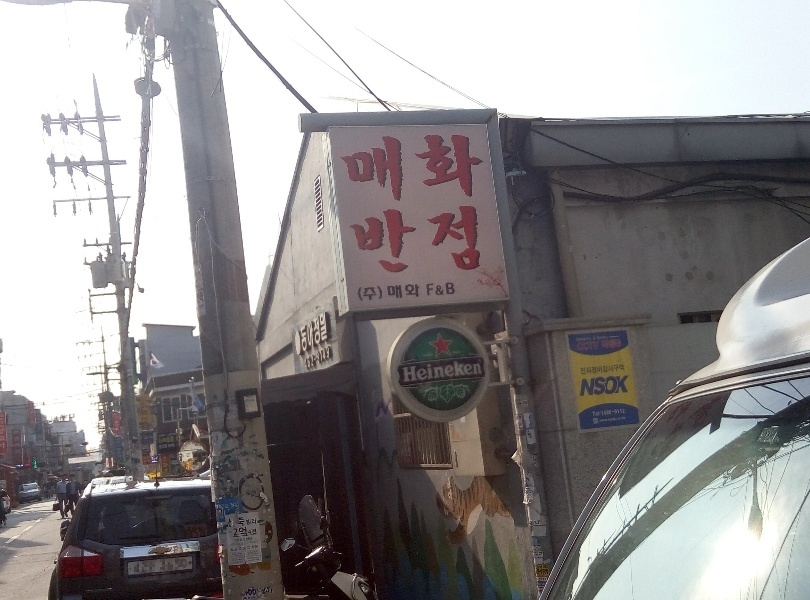text: (465, 203, 481, 276), (353, 203, 368, 276), (369, 203, 384, 276), (385, 203, 400, 276), (401, 203, 416, 276), (417, 203, 432, 276), (433, 203, 448, 276), (449, 203, 464, 276), (337, 133, 352, 204), (353, 133, 368, 204), (369, 133, 384, 204), (385, 133, 400, 204), (401, 133, 416, 204), (417, 133, 432, 204), (433, 133, 448, 204), (449, 133, 464, 204), (465, 133, 480, 204), (305, 311, 320, 354), (1, 413, 16, 454), (345, 203, 352, 276), (241, 536, 256, 566), (305, 345, 320, 372), (417, 359, 432, 383), (433, 359, 448, 383), (449, 359, 464, 383), (465, 359, 480, 383), (228, 536, 240, 566), (402, 359, 416, 383), (593, 375, 608, 397), (609, 375, 624, 397), (116, 437, 128, 464), (225, 501, 240, 522), (321, 311, 328, 354), (162, 455, 176, 476), (369, 283, 384, 302), (385, 283, 400, 302), (401, 283, 416, 302), (481, 133, 485, 204), (36, 410, 48, 433), (161, 432, 176, 450), (241, 514, 257, 530), (577, 335, 592, 352), (593, 335, 608, 352), (321, 345, 330, 372), (581, 375, 592, 397), (433, 282, 448, 297), (257, 585, 272, 600), (357, 283, 368, 302), (227, 514, 240, 530), (609, 335, 621, 352), (241, 525, 256, 538), (243, 585, 256, 600), (531, 545, 544, 560), (609, 364, 625, 376), (215, 501, 224, 522), (593, 364, 608, 376), (300, 311, 304, 354), (593, 408, 608, 418), (609, 408, 624, 418), (139, 401, 144, 430), (145, 401, 150, 430), (580, 364, 592, 376), (17, 430, 22, 456), (609, 416, 624, 424), (27, 401, 32, 424), (625, 375, 630, 397), (535, 565, 544, 576), (233, 525, 240, 538), (426, 282, 432, 297), (449, 282, 455, 297), (257, 536, 260, 566), (530, 520, 544, 526), (535, 577, 544, 586), (13, 430, 16, 456), (599, 416, 608, 424), (33, 456, 38, 470), (417, 283, 420, 302), (177, 432, 180, 450), (481, 359, 483, 383), (145, 435, 153, 441), (33, 401, 35, 424), (158, 432, 160, 450), (545, 565, 548, 576), (140, 435, 144, 441), (545, 577, 547, 586), (575, 335, 576, 352), (257, 525, 258, 538), (625, 408, 626, 418), (625, 416, 626, 424)
